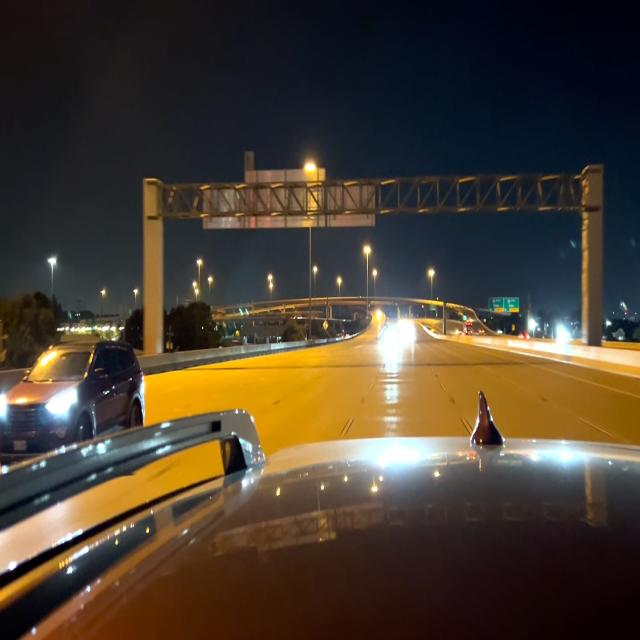back-of-sign: (203, 146, 376, 228)
